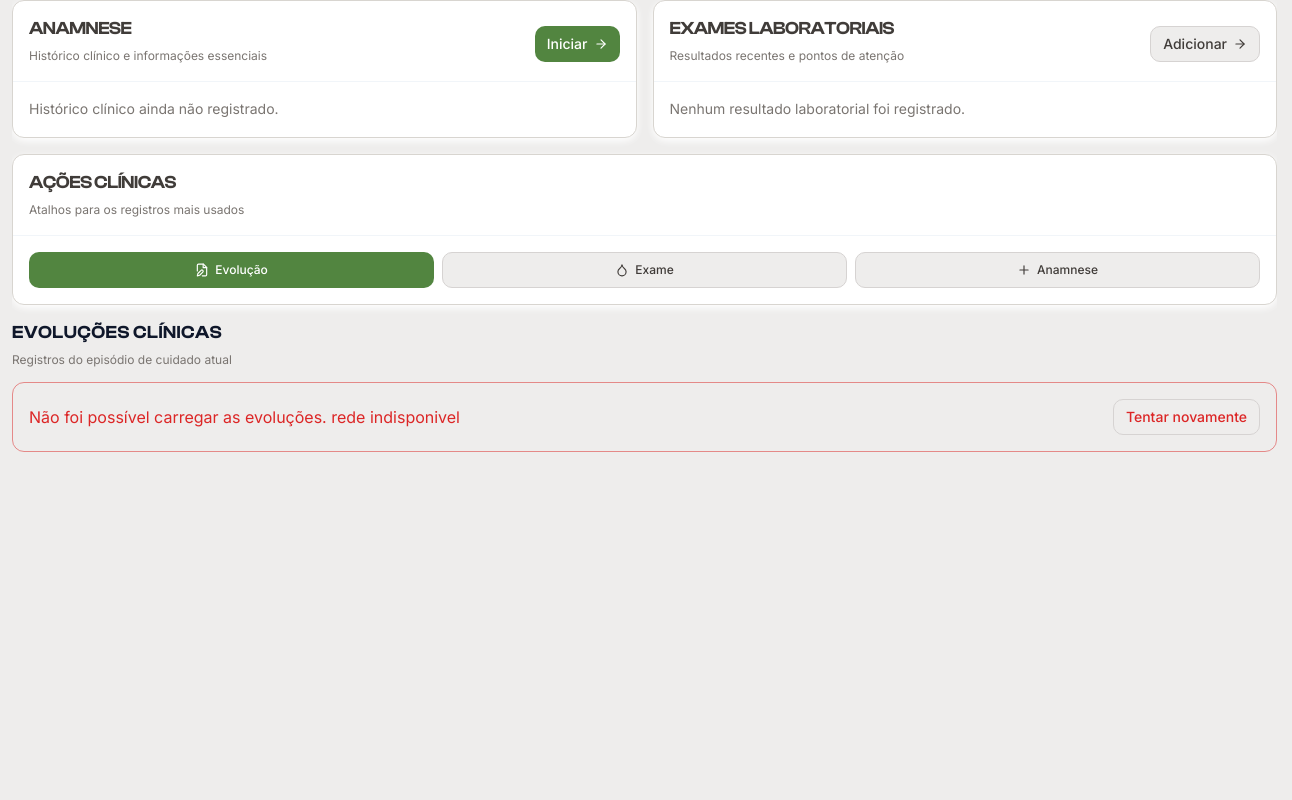
Scenario: TabContentClinical C2 flow › shows a list error and retries the current patient and episode
Expected: the text "Não foi possível carregar as evoluções. rede indisponivel" is shown, [29, 404, 460, 428]
Click the button "Tentar novamente" at coordinates (1186, 416), box [1113, 398, 1260, 434]
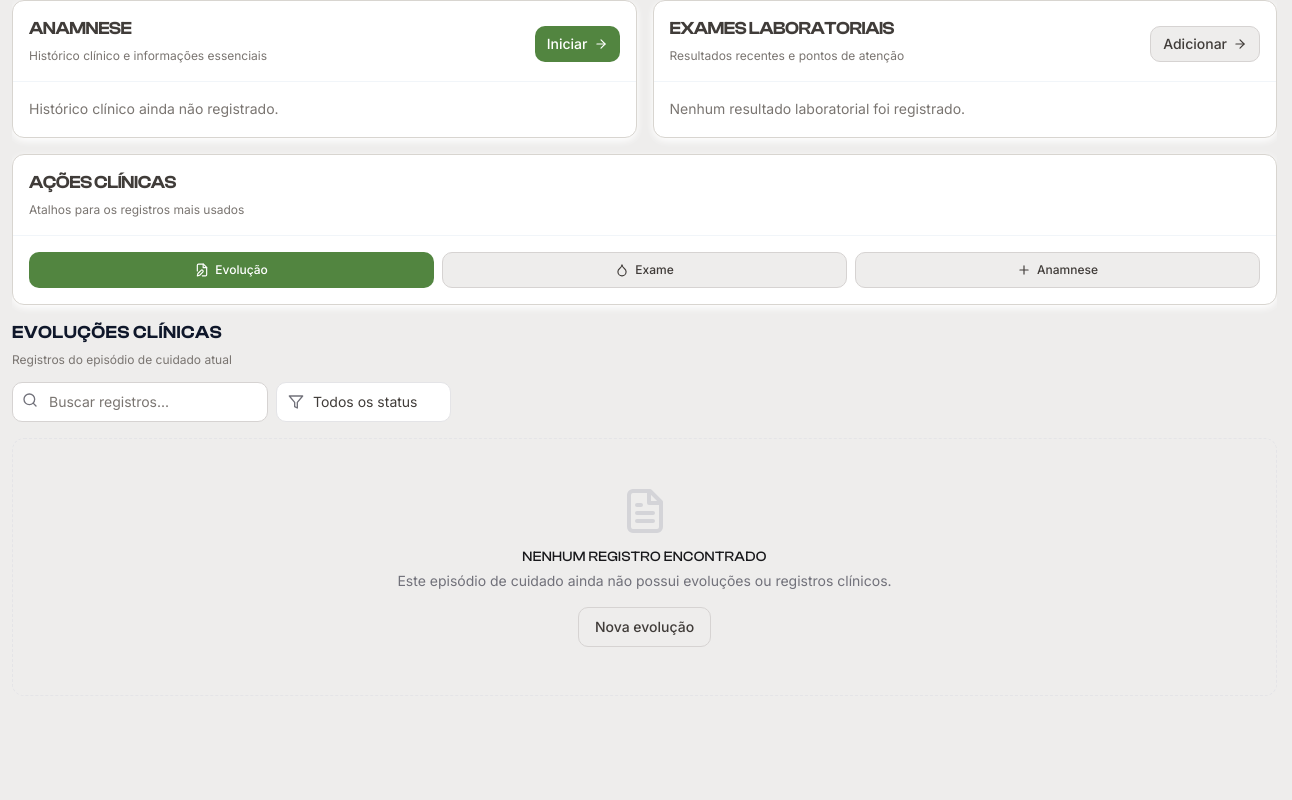
Expected: the text "n.o foi poss.vel carregar as evolu" is gone
